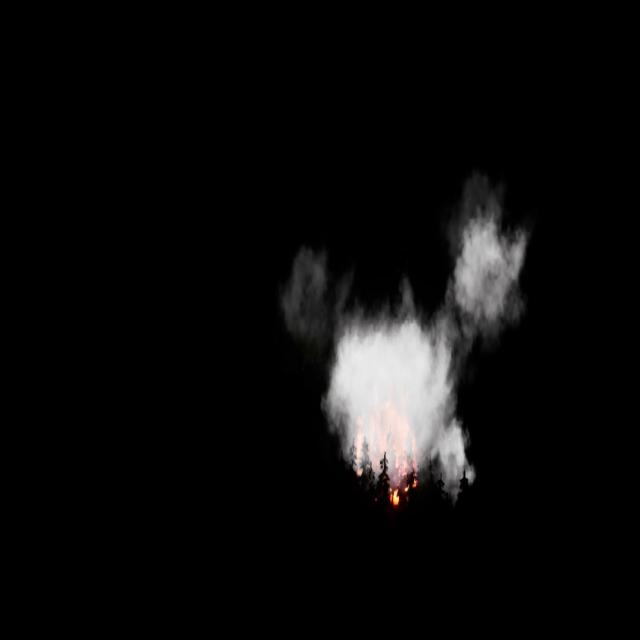fire: (353, 397, 422, 510)
smoke: (283, 180, 536, 498)
